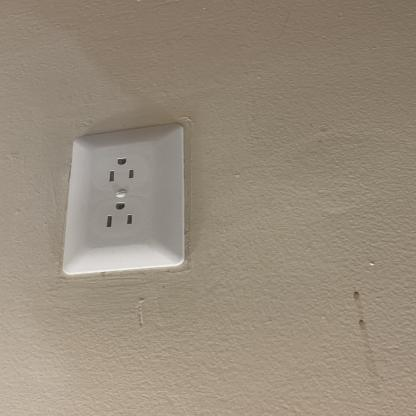OUTLET: (60, 120, 193, 277)
